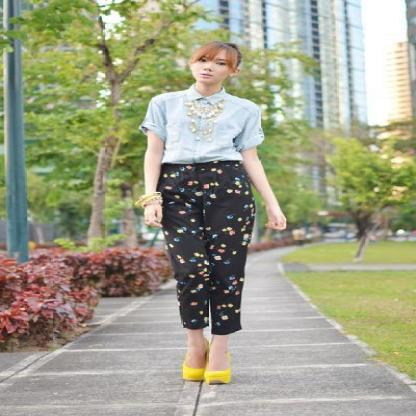pants: (156, 160, 254, 335)
shirt: (141, 83, 268, 166)
shoe: (182, 358, 229, 390)
